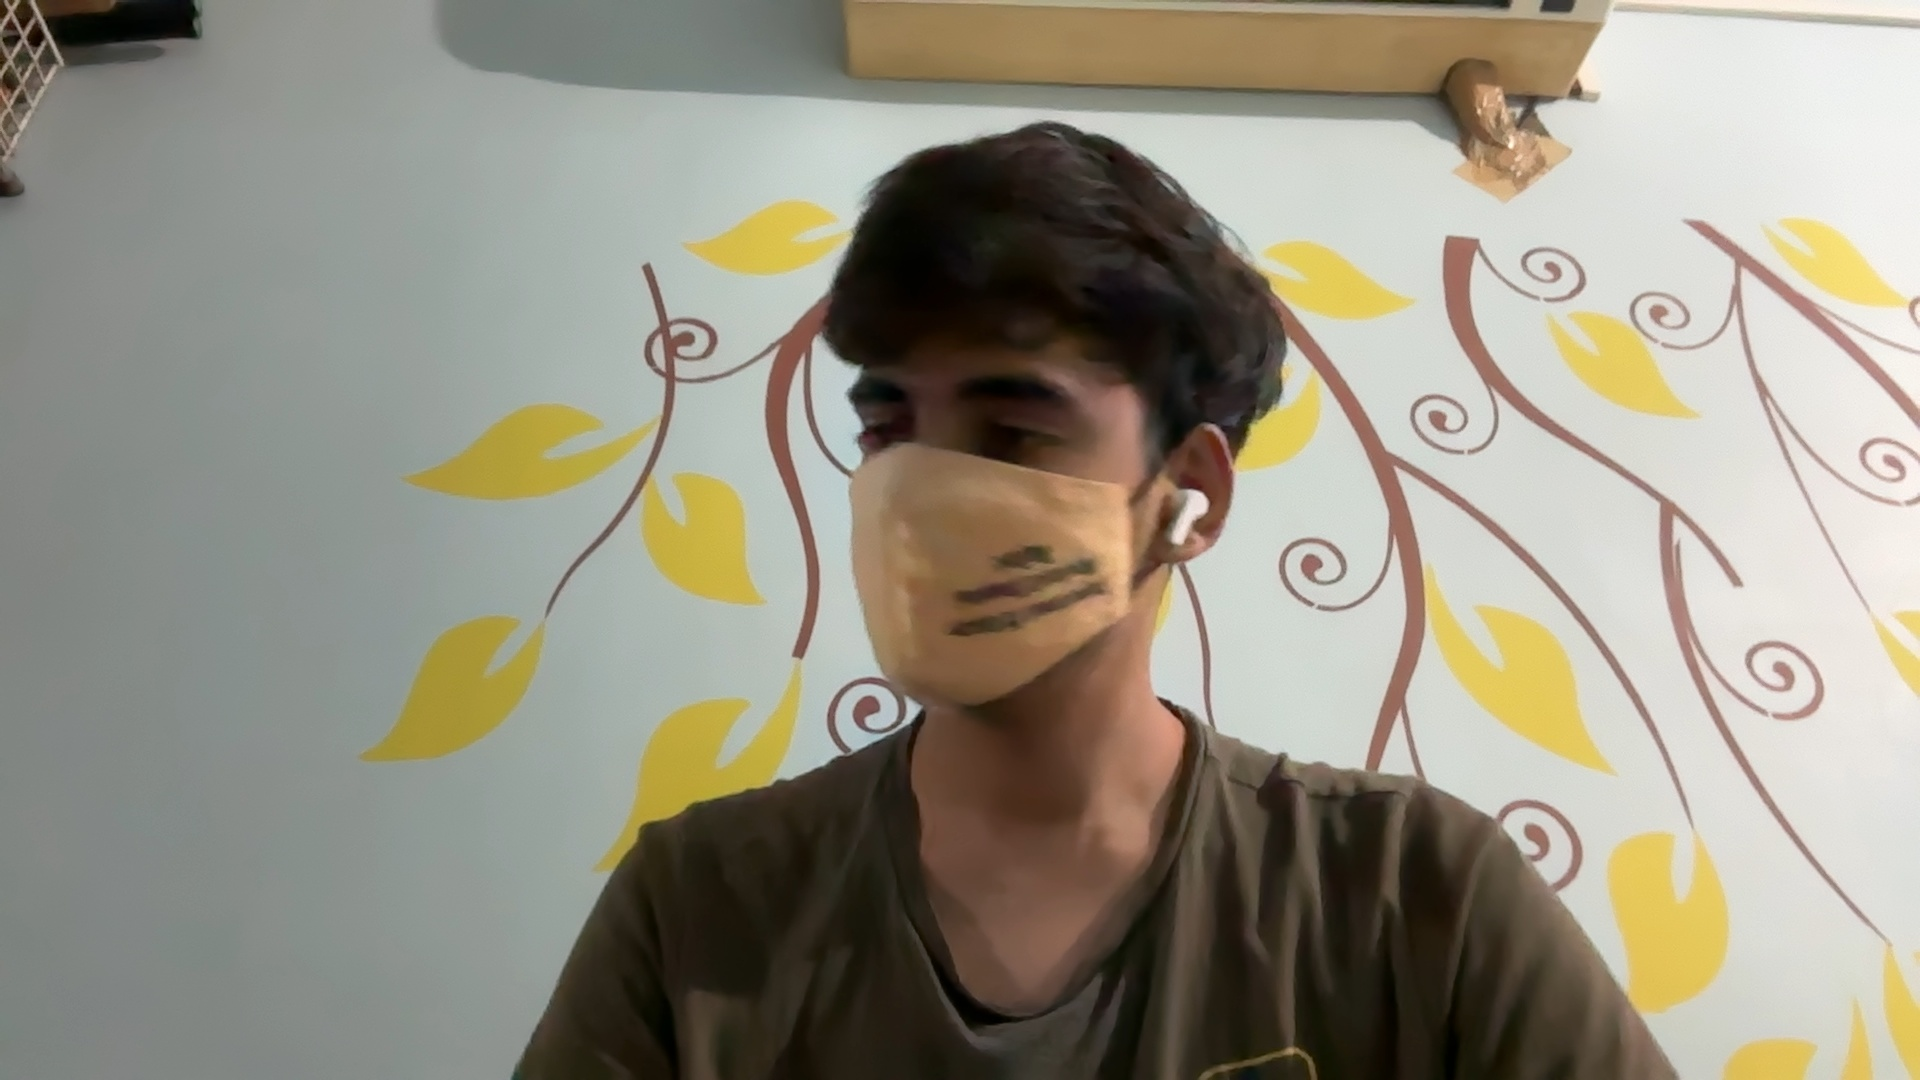Mask: (837, 452, 1145, 722)
